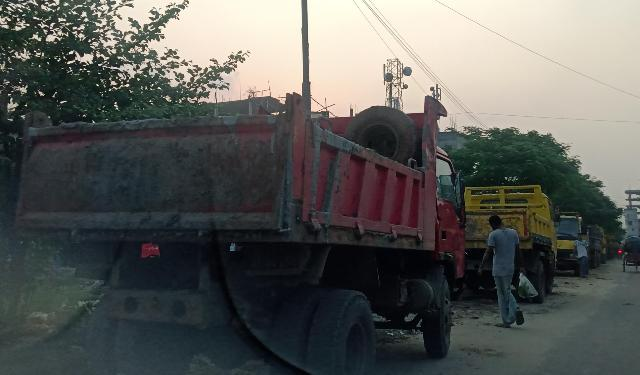truck: (4, 82, 471, 375), (461, 177, 556, 308), (557, 203, 592, 279)
